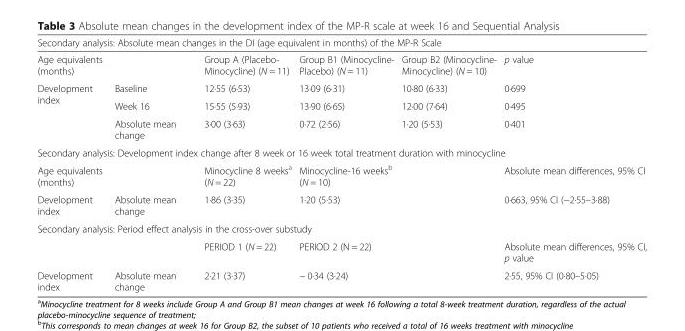table: (36, 36, 645, 292)
table column: (499, 36, 645, 292), (189, 36, 294, 292), (294, 36, 397, 292), (397, 36, 499, 292), (107, 36, 189, 292), (36, 36, 107, 292)
table column header: (36, 36, 645, 79)
table projected row header: (36, 219, 645, 237), (36, 143, 645, 160)
table row: (36, 160, 645, 190), (36, 50, 645, 79), (36, 114, 645, 143), (36, 190, 645, 219), (36, 237, 645, 266), (36, 266, 645, 292), (36, 96, 645, 114), (36, 219, 645, 237), (36, 79, 645, 96), (36, 143, 645, 160), (36, 36, 645, 50)
table spanning cell: (36, 36, 645, 50), (36, 79, 107, 143)
